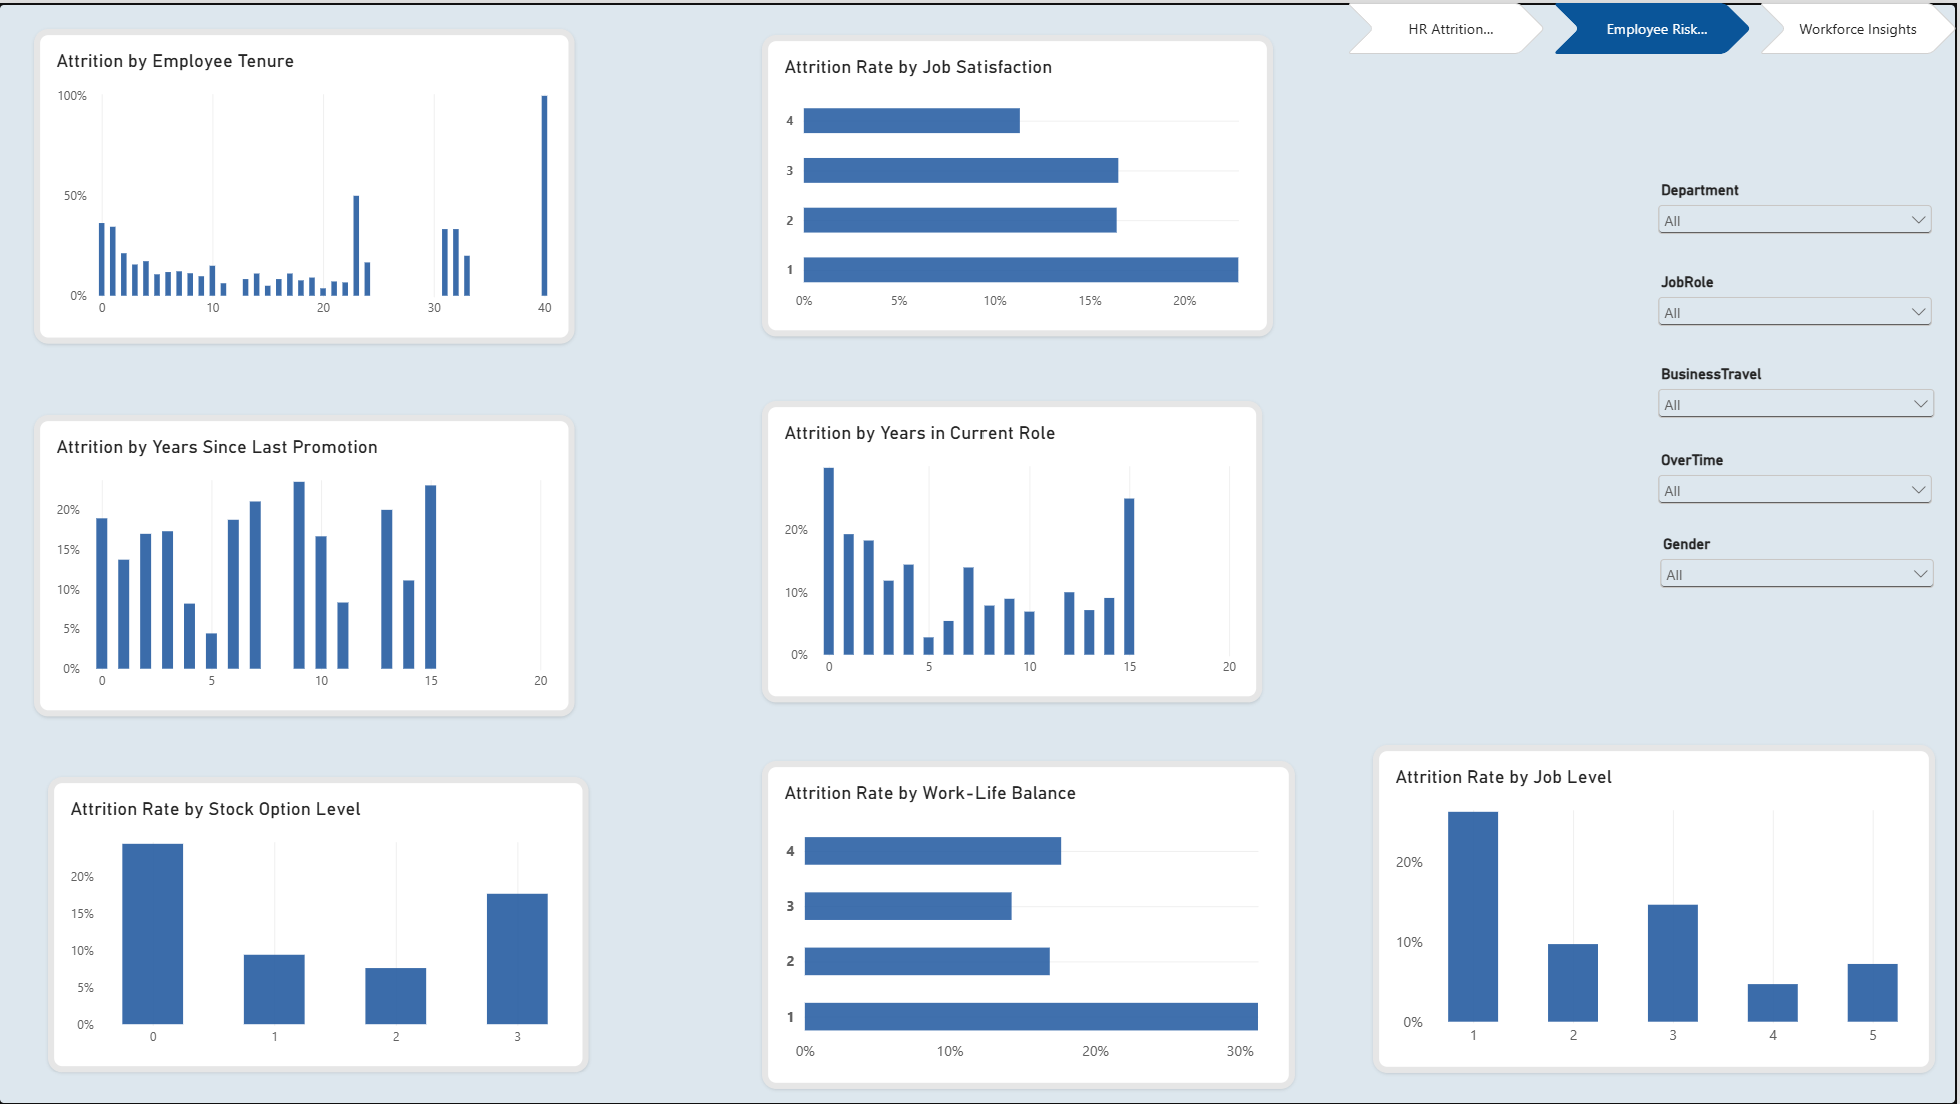

What the dashboard file says about the page in this screenshot:
{"tool":"powerbi","page":{"name":"Employee Risk Analysis","canvas":[1920,1080],"ordinal":1},"visuals":[{"type":"slicer","fields":{"Values":["Employees.Department"]},"box":[1621.3,174.5,278.7,89.4],"z":0},{"type":"slicer","fields":{"Values":["Employees.BusinessTravel"]},"box":[1621.3,355.3,280.9,91.5],"z":1000},{"type":"slicer","fields":{"Values":["Employees.JobRole"]},"box":[1621.3,263.8,278.7,74.5],"z":2000},{"type":"slicer","fields":{"Values":["Employees.Gender"]},"box":[1623.4,521.3,278.7,76.6],"z":3000},{"type":"slicer","fields":{"Values":["Employees.OverTime"]},"box":[1621.3,438.3,278.7,83],"z":4000},{"type":"pageNavigator","box":[1320.8,0,600,50],"z":5000},{"type":"clusteredColumnChart","title":"\tAttrition by Employee Tenure","fields":{"Category":["Employees.YearsAtCompany"],"Y":["Employees.Attrition Rate"]},"box":[36.2,25.5,529.8,308.5],"z":6000},{"type":"clusteredBarChart","title":"\tAttrition Rate by Job Satisfaction","fields":{"Category":["Employees.JobSatisfaction"],"Y":["Employees.Attrition Rate"]},"box":[749,31.4,500,295.7],"z":7000},{"type":"clusteredBarChart","title":"\tAttrition Rate by Work-Life Balance","fields":{"Category":["Employees.WorkLifeBalance"],"Y":["Employees.Attrition Rate"]},"box":[749,743.1,521.3,321.3],"z":8000},{"type":"clusteredColumnChart","title":"\tAttrition by Years in Current Role","fields":{"Category":["Employees.YearsInCurrentRole"],"Y":["Employees.Attrition Rate"]},"box":[749,390.2,489.4,295.7],"z":9000},{"type":"clusteredColumnChart","title":"Attrition Rate by Stock Option Level","fields":{"Category":["Employees.StockOptionLevel"],"Y":["Employees.Attrition Rate"]},"box":[49,758.8,529.8,289.4],"z":10000},{"type":"clusteredColumnChart","title":"\tAttrition Rate by Job Level","fields":{"Category":["Employees.JobLevel"],"Y":["Employees.Attrition Rate"]},"box":[1347.1,727.5,551.1,321.3],"z":11000},{"type":"clusteredColumnChart","title":"Attrition by Years Since Last Promotion","fields":{"Category":["Employees.YearsSinceLastPromotion"],"Y":["Employees.Attrition Rate"]},"box":[36.2,404.3,529.8,295.7],"z":12000}]}

Visuals, with their boxes in screenshot pixels (x1, y1, x2, y2), scaled from the page's 1920x1080 canvas onto the 1960x1104 screenshot:
slicer - Employees.Department: [1655,178,1940,270]
slicer - Employees.BusinessTravel: [1655,363,1942,457]
slicer - Employees.JobRole: [1655,270,1940,346]
slicer - Employees.Gender: [1657,533,1942,611]
slicer - Employees.OverTime: [1655,448,1940,533]
pageNavigator: [1348,0,1959,51]
"	Attrition by Employee Tenure" clusteredColumnChart: [37,26,578,341]
"	Attrition Rate by Job Satisfaction" clusteredBarChart: [765,32,1275,334]
"	Attrition Rate by Work-Life Balance" clusteredBarChart: [765,760,1297,1088]
"	Attrition by Years in Current Role" clusteredColumnChart: [765,399,1264,701]
"Attrition Rate by Stock Option Level" clusteredColumnChart: [50,776,591,1071]
"	Attrition Rate by Job Level" clusteredColumnChart: [1375,744,1938,1072]
"Attrition by Years Since Last Promotion" clusteredColumnChart: [37,413,578,716]
